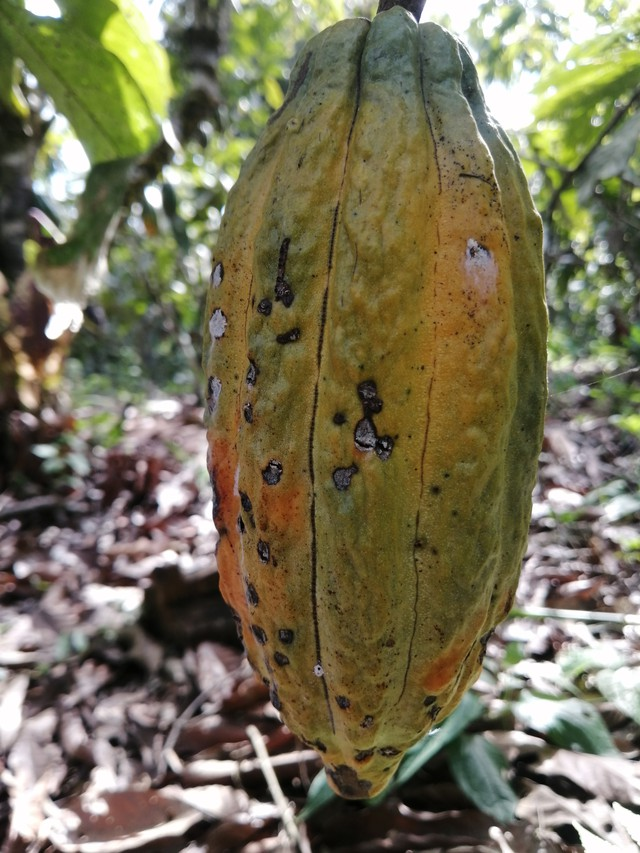moniliophthora perniciosa: (195, 7, 561, 823)
